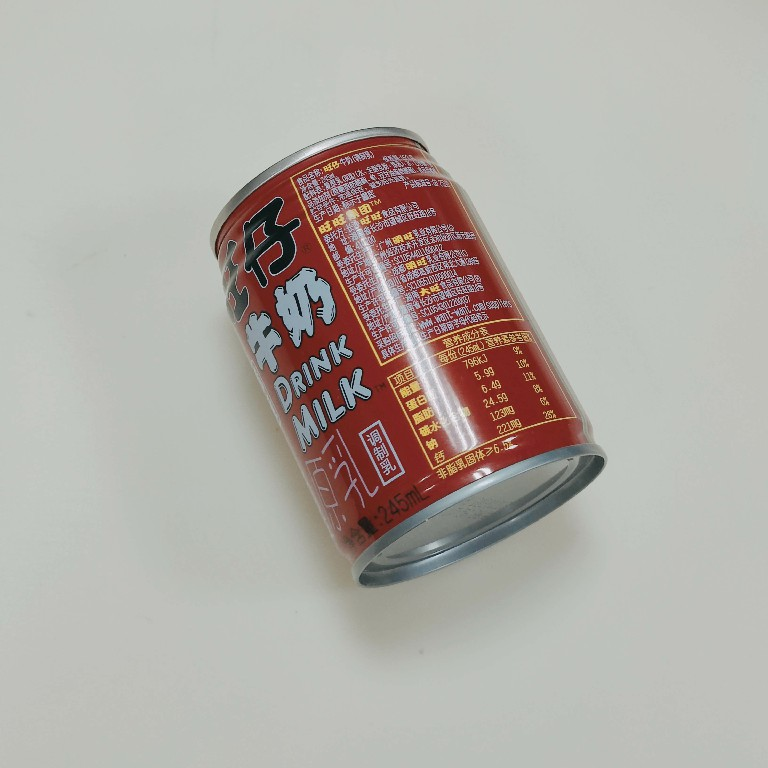can: (204, 120, 614, 590)
